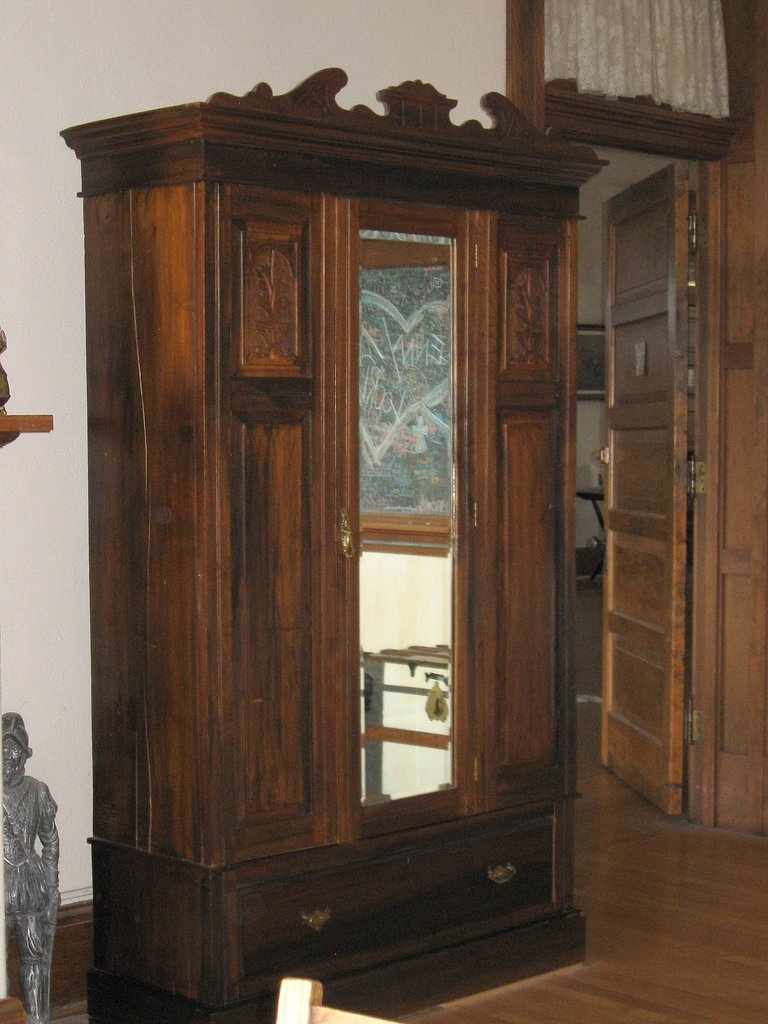cabinet door: (226, 188, 319, 832), (477, 232, 562, 795), (242, 845, 554, 932)
door: (602, 202, 683, 794)
handle: (482, 855, 511, 889), (338, 506, 355, 563), (303, 896, 326, 934)
